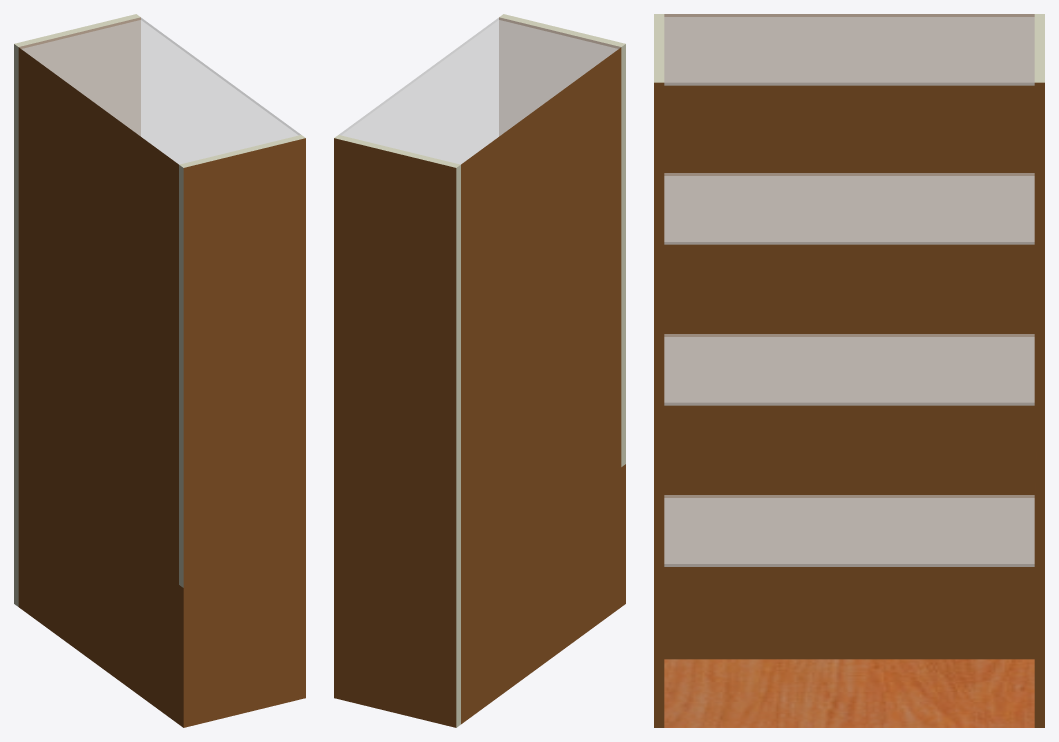
The picture shows the model from 3 angles, left to right: view 1: azimuth 30°, elevation 25°; view 2: azimuth 150°, elevation 25°; view 3: azimuth 270°, elevation 25°; orthographic projection. The views are drawn at different scales.
Visible parts, largest first — view 1: Mesh1_Model; view 2: Mesh1_Model; view 3: Mesh1_Model.
Part boxes in pixels (bbox=[...]): Mesh1_Model: bbox=[14, 14, 305, 727]; Mesh1_Model: bbox=[334, 14, 625, 727]; Mesh1_Model: bbox=[654, 14, 1044, 727].
Size of the model in its own units: 0.229 by 1 by 0.55.
